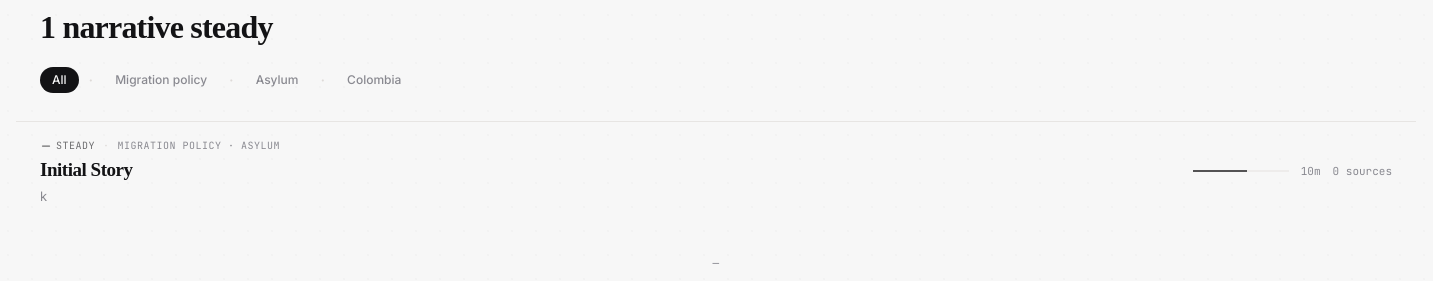
it: Phase 1.2: settings-backed pills › applies the settings intersection to heartbeat-overlaid stories too
This screenshot has width=1433, height=281.
Expected: the heading "Initial Story" is shown, [40,159,132,180]
Expected: the button with test id "pill-topic-Migration policy" is shown, [103,67,219,93]
Click the button "All" at (59, 80), box [40,67,79,93]
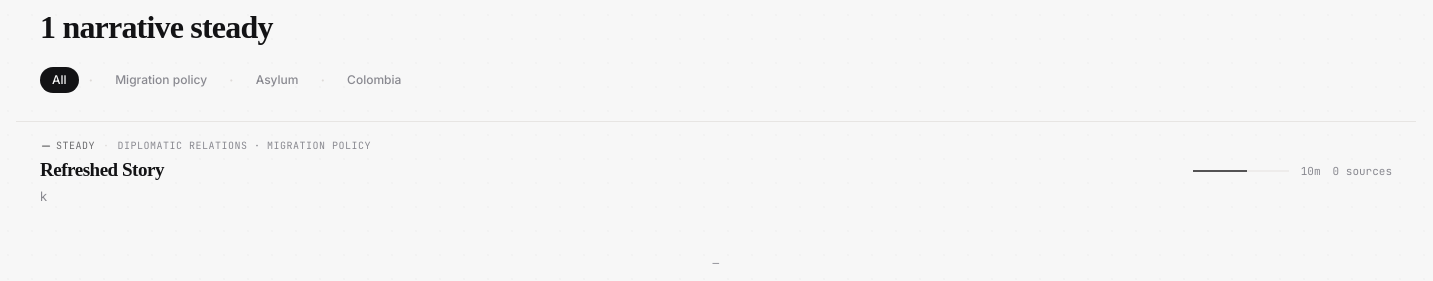
Expected: the button with test id "pill-topic-Migration policy" is shown, [103,67,219,93]
Expected: the button "Initial Story" is gone
Expected: the heading "Refreshed Story" is shown, [40,159,164,180]
